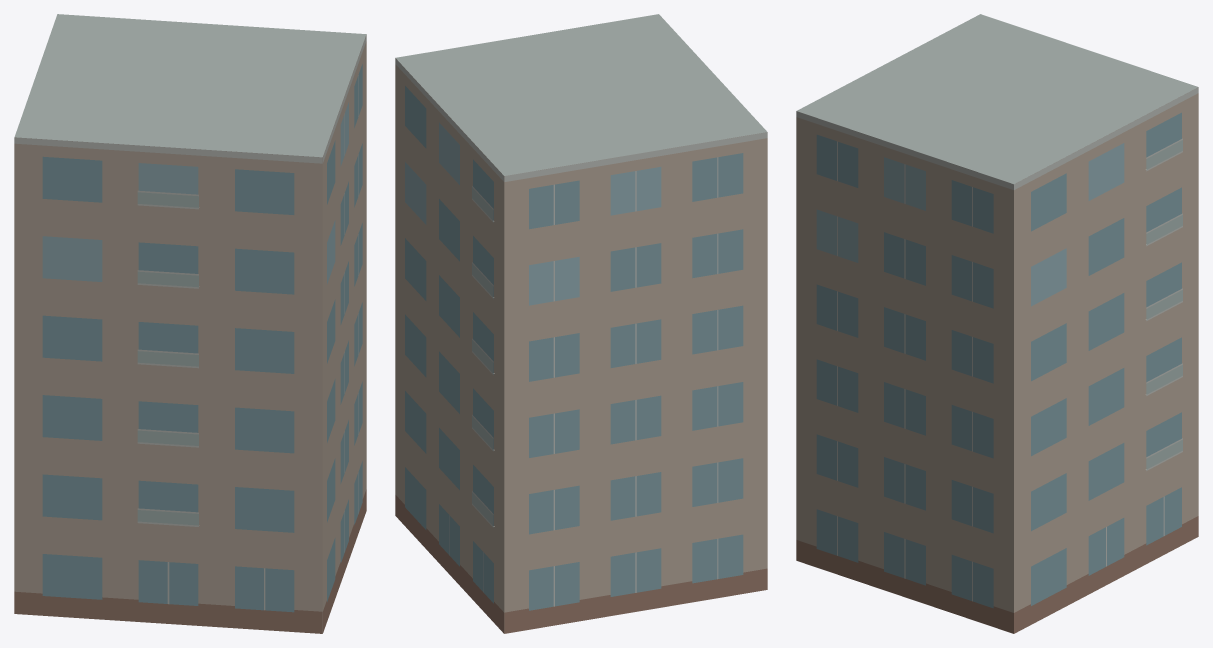
Rendered from survey-upis-32972234.glb.
3 views of the same model, side by side, from view 1: azimuth 30°, elevation 25°; view 2: azimuth 150°, elevation 25°; view 3: azimuth 270°, elevation 25° (orthographic). The views are drawn at different scales.
Visible parts, largest first — view 1: survey-upis-32972234.tmp; view 2: survey-upis-32972234.tmp; view 3: survey-upis-32972234.tmp.
Part boxes in pixels (bbox=[...]): survey-upis-32972234.tmp: bbox=[14, 14, 366, 633]; survey-upis-32972234.tmp: bbox=[395, 14, 767, 633]; survey-upis-32972234.tmp: bbox=[796, 14, 1198, 633].
Bounding box in the file's own units: 14.87 × 18.3 × 14.85.
